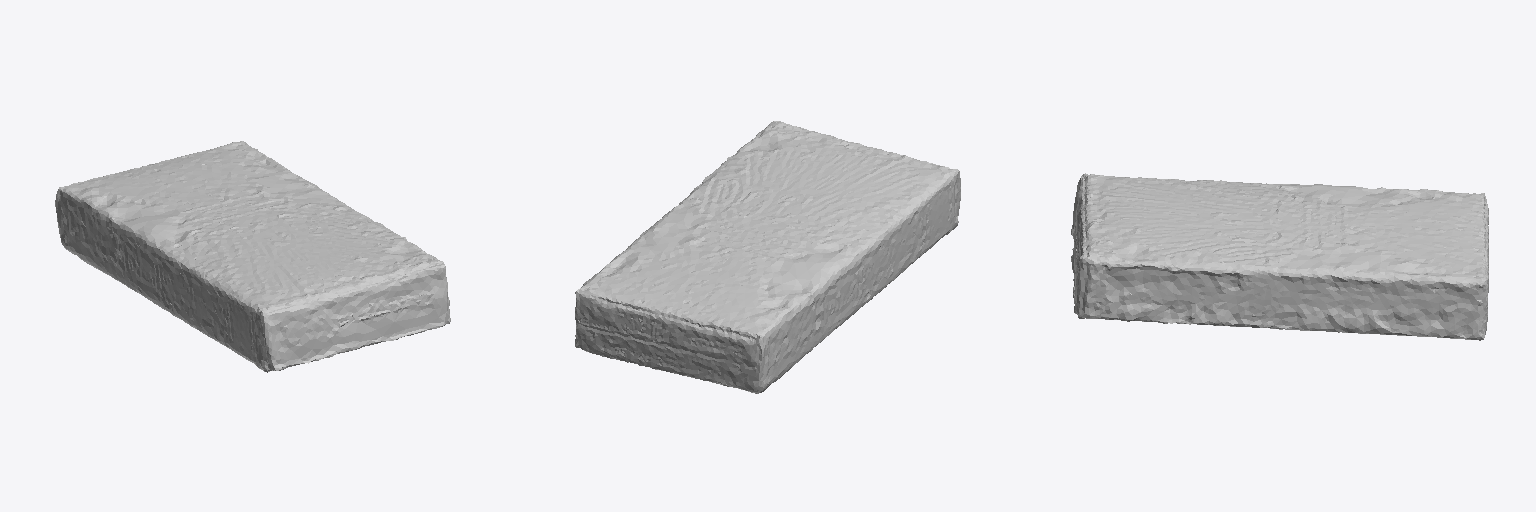
Rendered from pocky_red_modified.obj.
3 views of the same model, side by side, from view 1: azimuth 30°, elevation 25°; view 2: azimuth 150°, elevation 25°; view 3: azimuth 270°, elevation 25° (orthographic).
Bounding box in the file's own units: 0.0841 × 0.0361 × 0.1552.